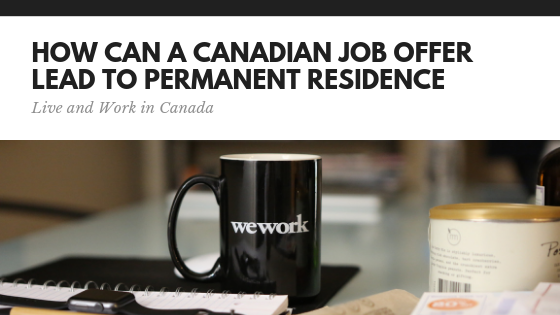wework: (229, 212, 311, 235)
